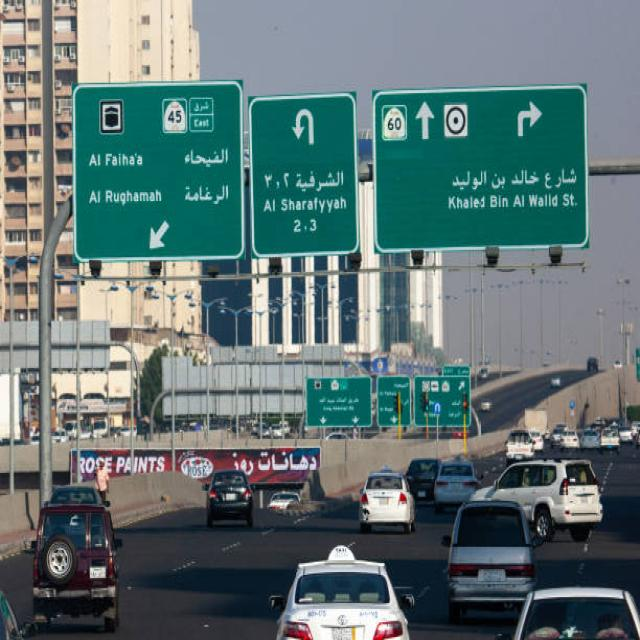Billboard_overhead: (374, 80, 603, 258), (65, 74, 244, 268), (246, 78, 362, 270)
Billboard_overhead_small: (307, 368, 373, 432), (412, 368, 468, 438), (373, 370, 411, 430)
Roadcorner: (117, 488, 202, 535)
Roadlane: (148, 501, 331, 604)
